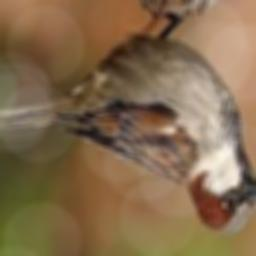Sparrow: (0, 0, 256, 234)
